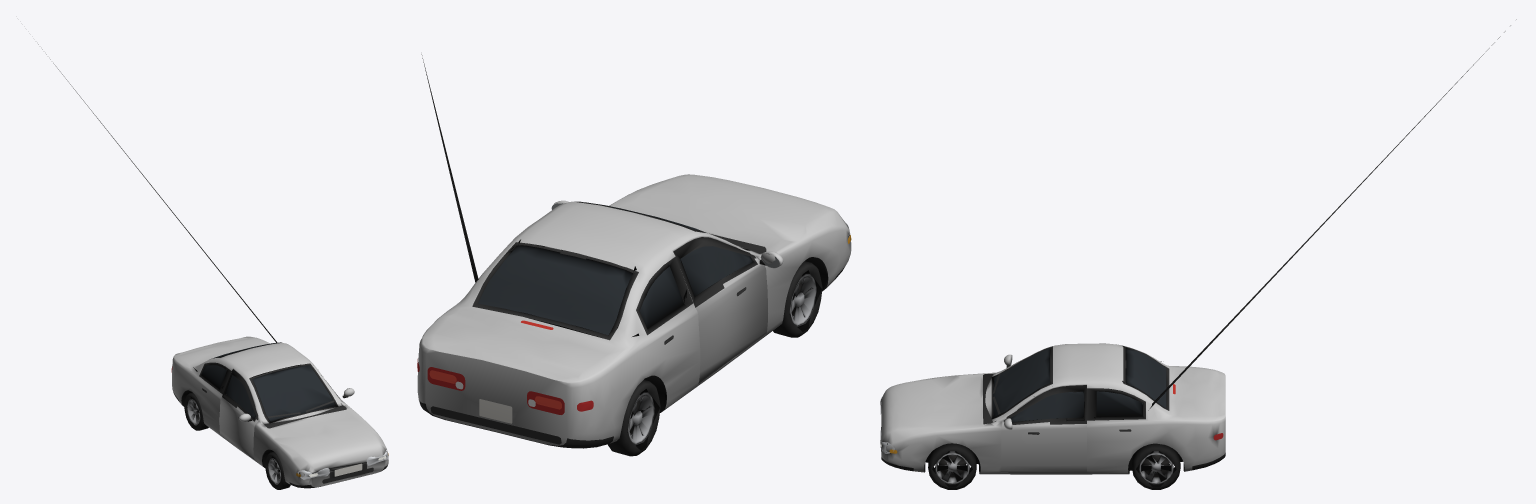
The model's file is car-compact-lo-v2.glb.
3 renders of one model, left to right at view 1: azimuth 30°, elevation 25°; view 2: azimuth 150°, elevation 25°; view 3: azimuth 270°, elevation 25°, orthographic. The views are drawn at different scales.
Visible parts, largest first — view 1: body, door_R, wheel_FR, wheel_RR; view 2: body, door_R, wheel_RR, wheel_FR; view 3: body, door_L, wheel_FL, wheel_RL.
Boxes of the visible parts, x1,y1,x2,y2 form: body: [38, 44, 388, 488]; door_R: [219, 369, 258, 459]; wheel_FR: [265, 452, 290, 489]; wheel_RR: [184, 392, 208, 430]; body: [417, 54, 851, 448]; door_R: [673, 237, 783, 383]; wheel_RR: [607, 380, 660, 456]; wheel_FR: [773, 261, 822, 337]; body: [880, 19, 1516, 474]; door_L: [1001, 385, 1086, 472]; wheel_FL: [928, 443, 976, 489]; wheel_RL: [1132, 443, 1180, 489].
Size of the model in its own units: 2.56 by 5.7 by 8.27.
